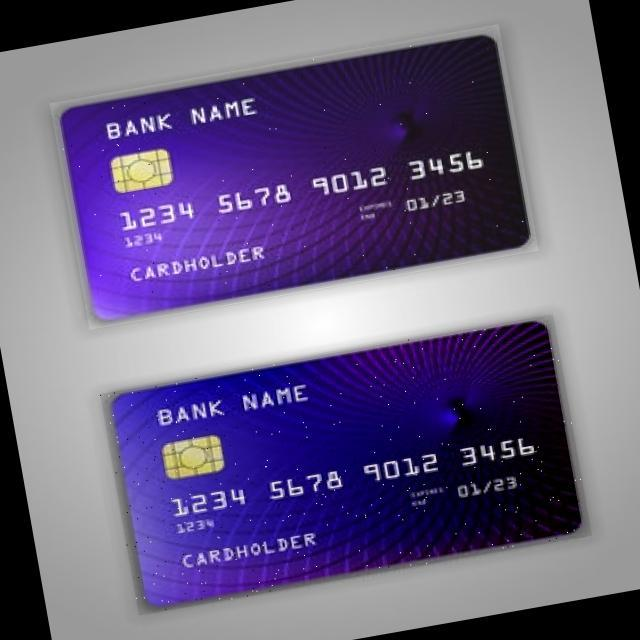payment_card: (100, 315, 585, 609), (55, 34, 533, 327)
